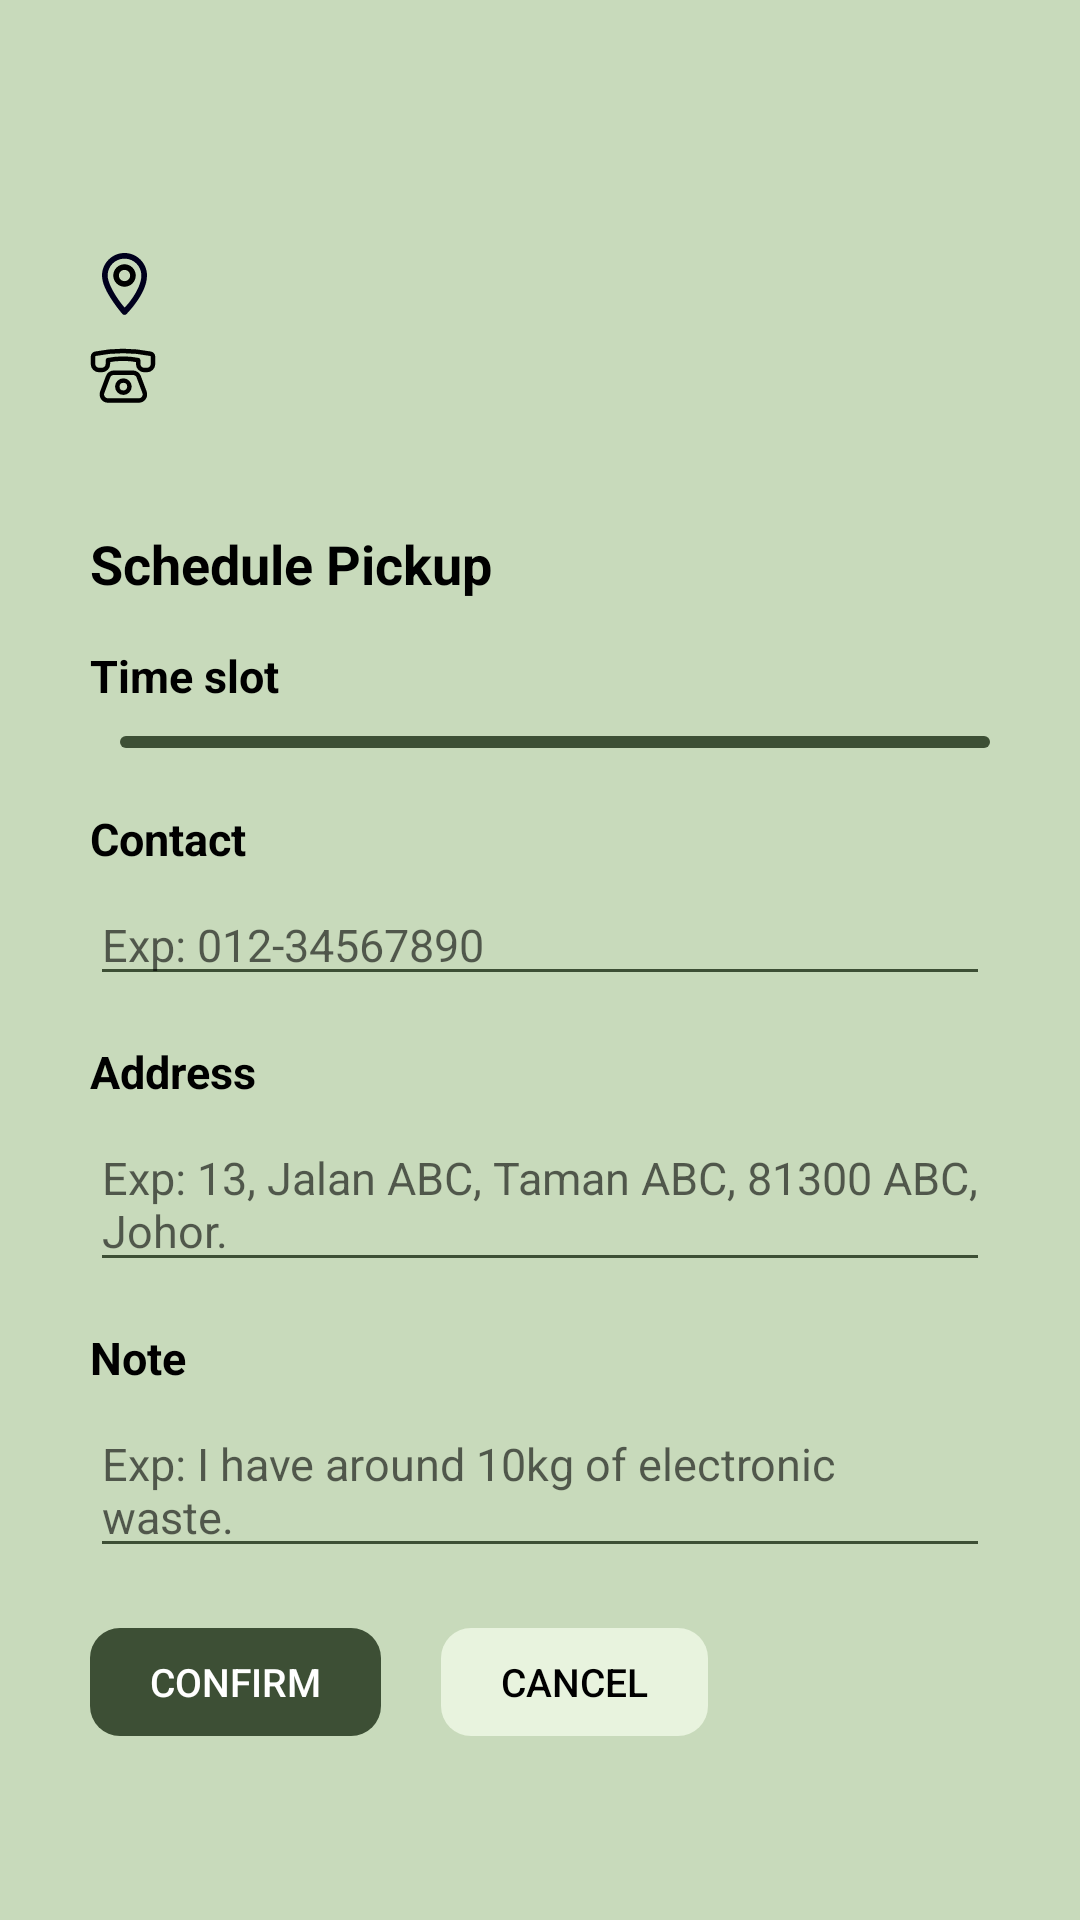

Named icons in this screenshot (1080px x 1920px) and their centers, (x=x, y=y):
location: (x=124, y=284)
phone: (x=123, y=375)
